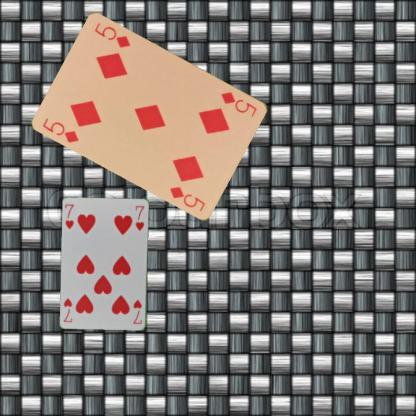5d: (218, 89, 259, 118), (41, 115, 80, 144)
7h: (63, 202, 75, 231), (130, 297, 142, 325)
